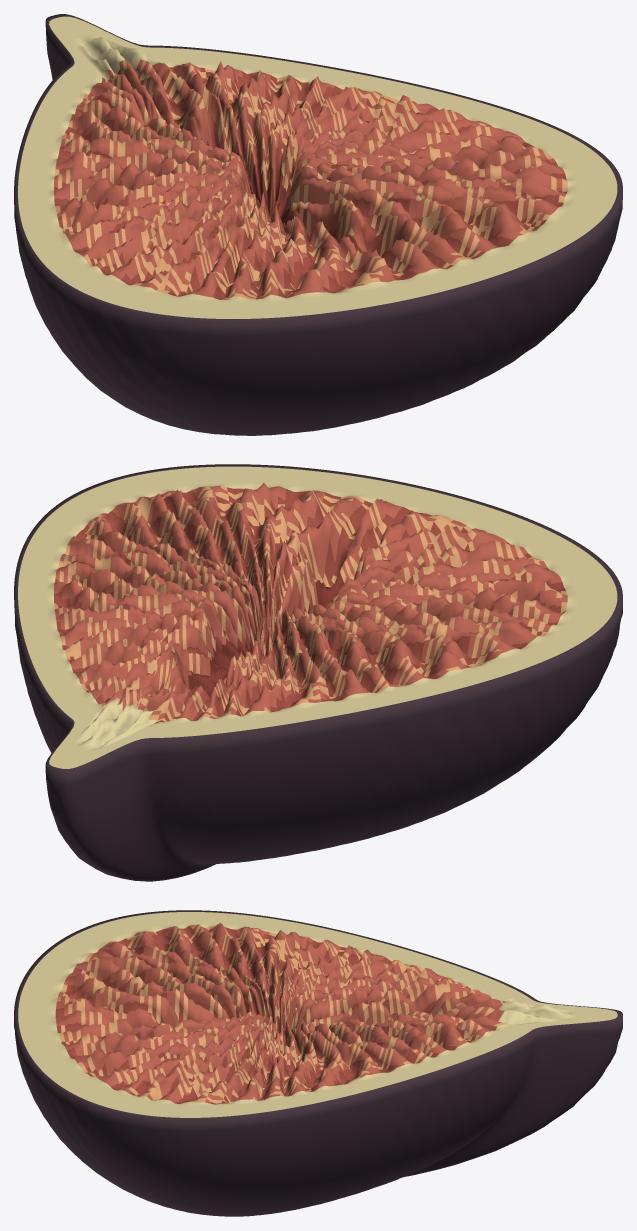
3 views of the same model, one above another, from view 1: azimuth 30°, elevation 25°; view 2: azimuth 150°, elevation 25°; view 3: azimuth 270°, elevation 25° (orthographic). The views are drawn at different scales.
Parts seen in each view (by area): view 1: NEW348_FigHalf_LOD0; view 2: NEW348_FigHalf_LOD0; view 3: NEW348_FigHalf_LOD0.
Part boxes in pixels (x1,y1,x2,y2): NEW348_FigHalf_LOD0: (14,14,622,435); NEW348_FigHalf_LOD0: (14,464,622,881); NEW348_FigHalf_LOD0: (14,910,622,1216).
Size of the model in its own units: 0.0651 by 0.0272 by 0.08.
